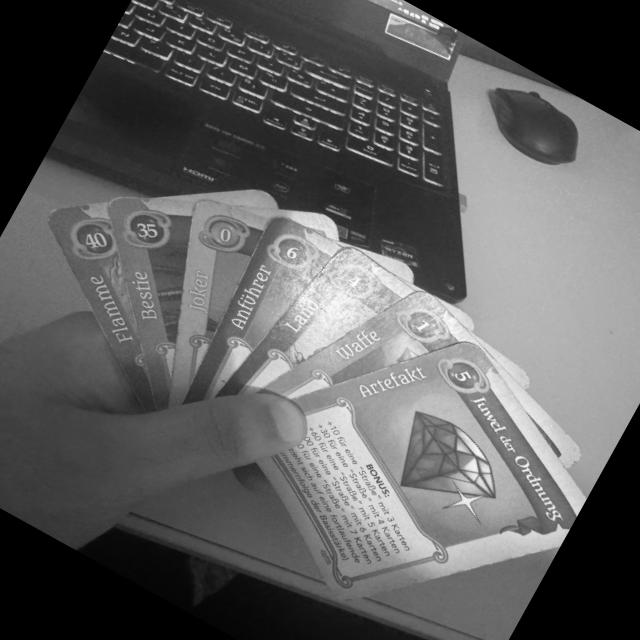Basilisk: (109, 196, 198, 412)
Earth Elemental: (214, 249, 415, 399)
Gem Of Order: (256, 339, 587, 604)
Magic Wand: (252, 289, 476, 402)
Mirage: (169, 199, 271, 408)
Queen: (182, 219, 343, 406)
Wildfire: (48, 202, 159, 415)
